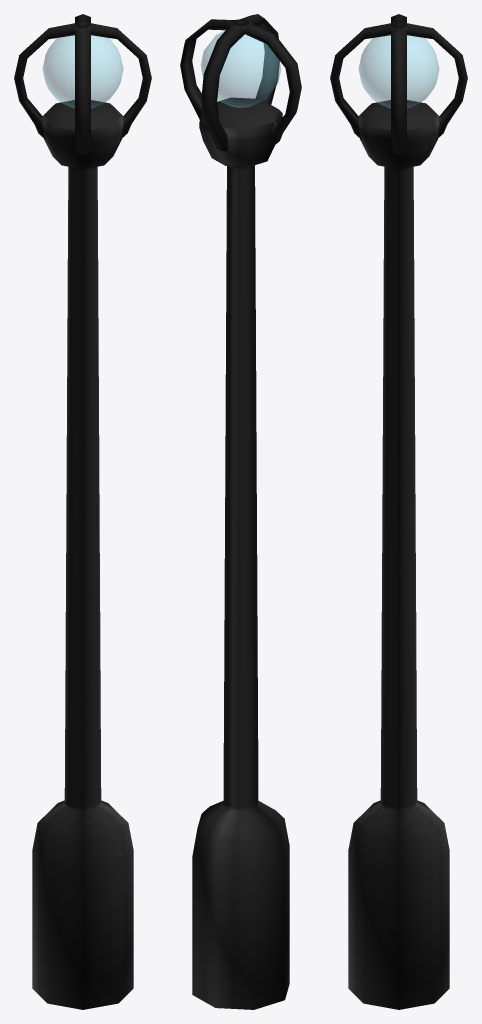
Rendered from lamp_post.glb.
3 renders of one model, left to right at view 1: azimuth 90°, elevation 25°; view 2: azimuth 150°, elevation 25°; view 3: azimuth 270°, elevation 25°, orthographic.
Parts seen in each view (by area): view 1: LampPost; view 2: LampPost; view 3: LampPost.
Part boxes in pixels (<box>): LampPost: <box>14,14,151,1009</box>; LampPost: <box>180,14,301,1009</box>; LampPost: <box>330,14,467,1009</box>.
Bounding box in the file's own units: 2.72 × 20.98 × 2.72.
Materials: 2 (1 with a texture image).
